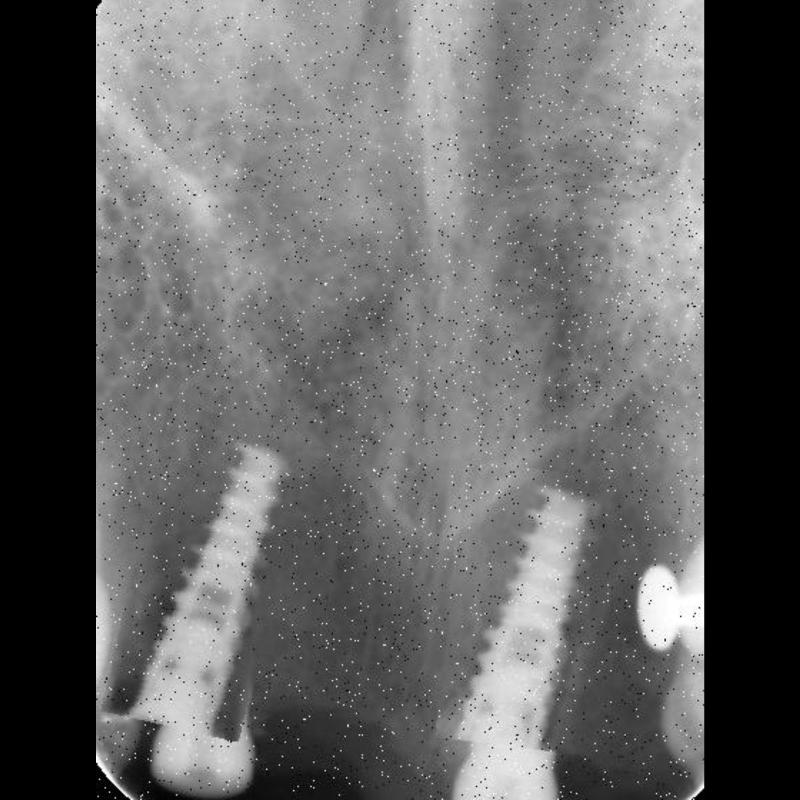ADIN: (118, 409, 292, 735), (443, 465, 617, 751)
